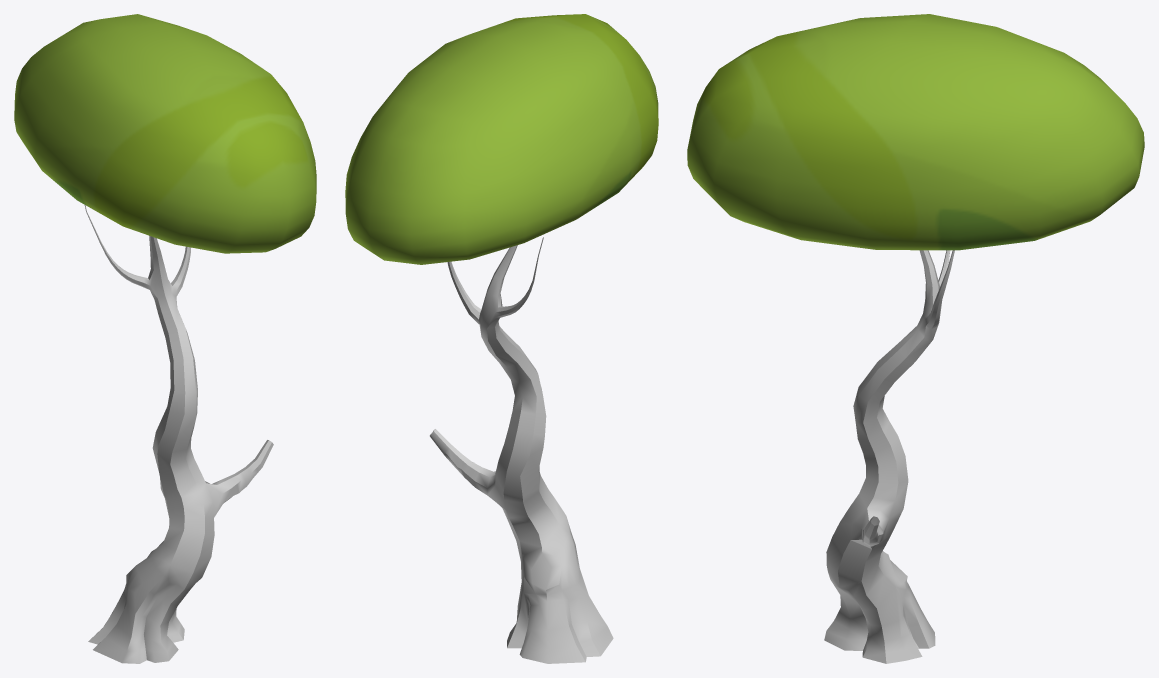
The model's file is big_trees.fbx.
3 views of the same model, side by side, from view 1: azimuth 30°, elevation 25°; view 2: azimuth 150°, elevation 25°; view 3: azimuth 270°, elevation 25° (orthographic). The views are drawn at different scales.
Parts seen in each view (by area): view 1: polySurface13924; view 2: polySurface13924; view 3: polySurface13924.
Boxes of the visible parts, left/top/right/bottom form: polySurface13924: left=14, top=14, right=316, bottom=663; polySurface13924: left=345, top=14, right=658, bottom=663; polySurface13924: left=687, top=14, right=1144, bottom=663.
Bounding box in the file's own units: 11.83 × 30.3 × 20.03.
